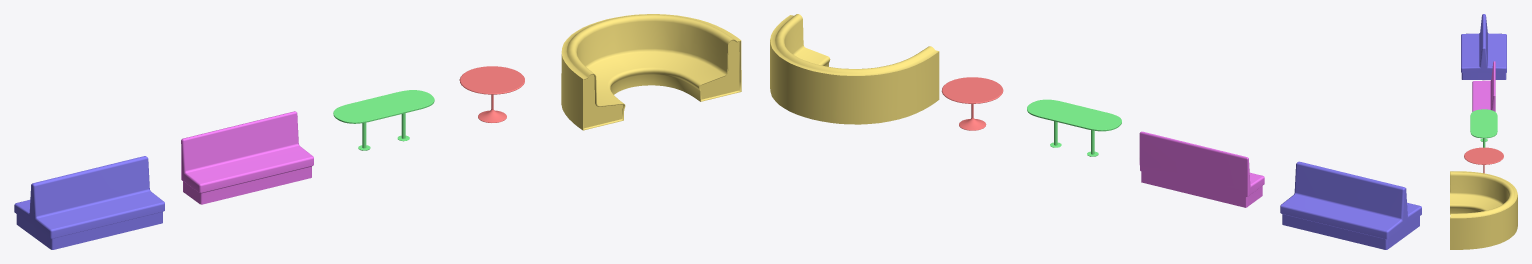
Rendered from SillonesYMesas.fbx.
3 views of the same model, side by side, from view 1: azimuth 30°, elevation 25°; view 2: azimuth 150°, elevation 25°; view 3: azimuth 270°, elevation 25° (orthographic). The views are drawn at different scales.
Visible parts, largest first — view 1: Circle001, DinerSofa_Double, DinerSofa_Single, RoundedLongTable, RoundTable; view 2: Circle001, DinerSofa_Double, DinerSofa_Single, RoundedLongTable, RoundTable; view 3: Circle001, DinerSofa_Double, DinerSofa_Single, RoundedLongTable, RoundTable.
Part boxes in pixels (<box>): Circle001: <box>561,14,741,130</box>; DinerSofa_Double: <box>14,156,164,249</box>; DinerSofa_Single: <box>181,111,313,204</box>; RoundedLongTable: <box>333,90,434,150</box>; RoundTable: <box>459,66,524,122</box>; Circle001: <box>770,14,939,124</box>; DinerSofa_Double: <box>1280,161,1421,249</box>; DinerSofa_Single: <box>1139,131,1264,207</box>; RoundedLongTable: <box>1027,99,1121,156</box>; RoundTable: <box>941,77,1003,130</box>; Circle001: <box>1450,171,1517,249</box>; DinerSofa_Double: <box>1461,14,1506,79</box>; DinerSofa_Single: <box>1472,61,1495,111</box>; RoundedLongTable: <box>1470,109,1497,147</box>; RoundTable: <box>1464,147,1503,173</box>.
Bounding box in the file's own units: 23.26 × 1.78 × 3.28.
